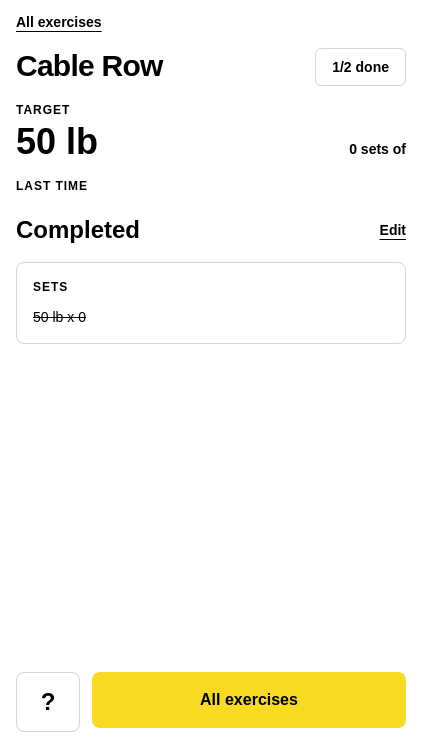
Test case: exercise selection › saves corrected values and missing checkmarks without completing the exercise again
Click the button "Edit" at (393, 230), box [380,220,406,240]
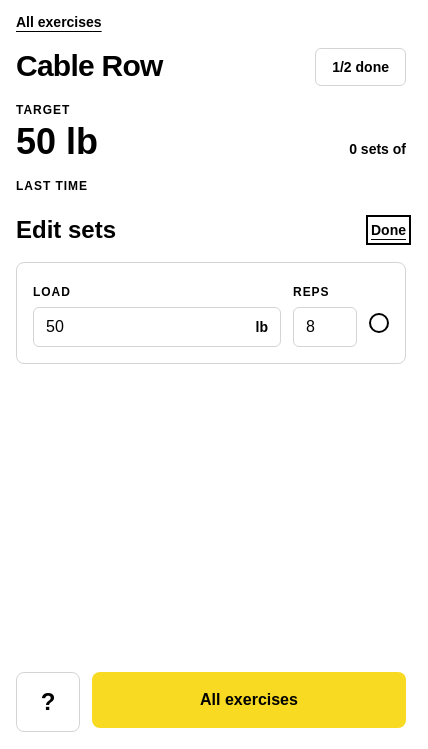
Replace the text in the field named "Set 1 Load (lb)" with "55" at (145, 327), box [34,308,256,346]
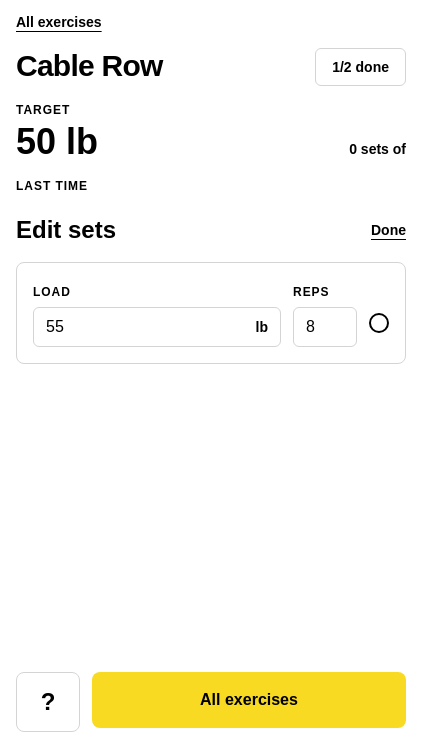
Click the button named "Set 1 completed" at (379, 323), box [369,313,389,333]
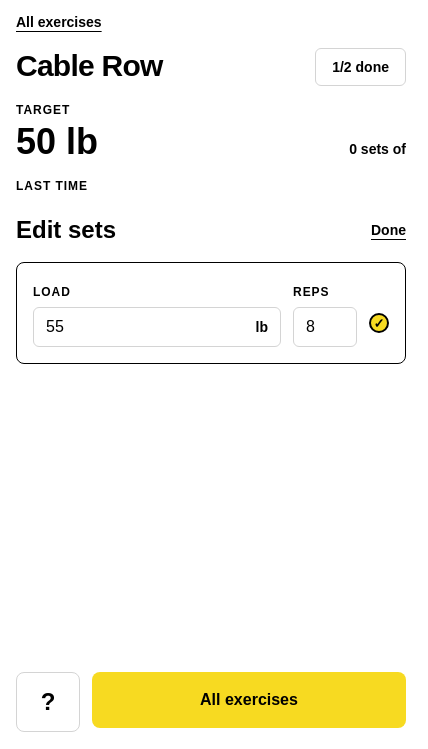
Click the button "Done" at (388, 230), box [371,220,406,240]
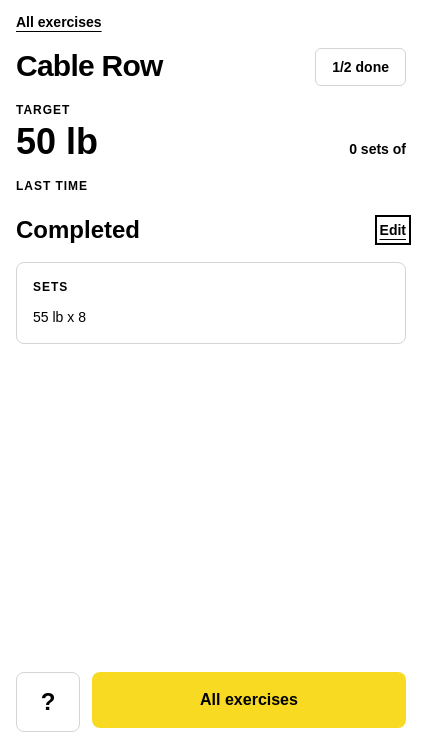
Expected: the button "Edit" is shown, [380,220,406,240]
